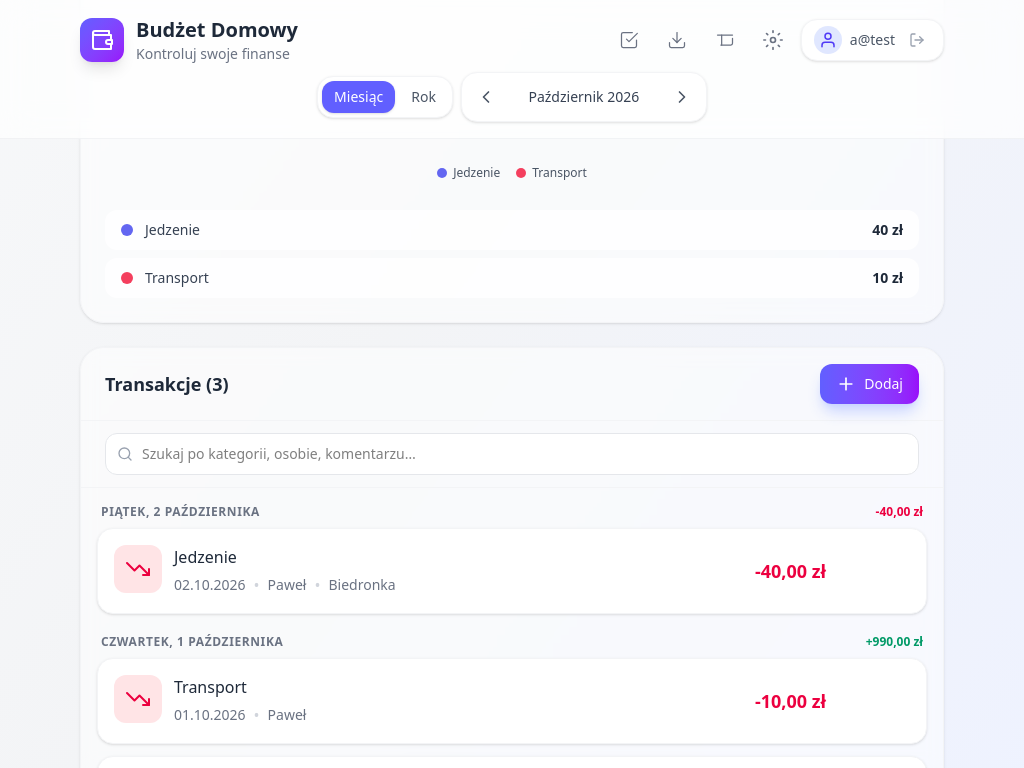
Test case: App — złożenie po podziale › dodanie transakcji: formularz → API → odświeżenie → zamknięcie
The width and height of the screenshot is (1024, 768).
(page scrolled)
Expected: the heading "Transakcje (3)" is shown, [105,370,229,398]
Click the button "Dodaj" at (870, 384), box [820,364,919,404]
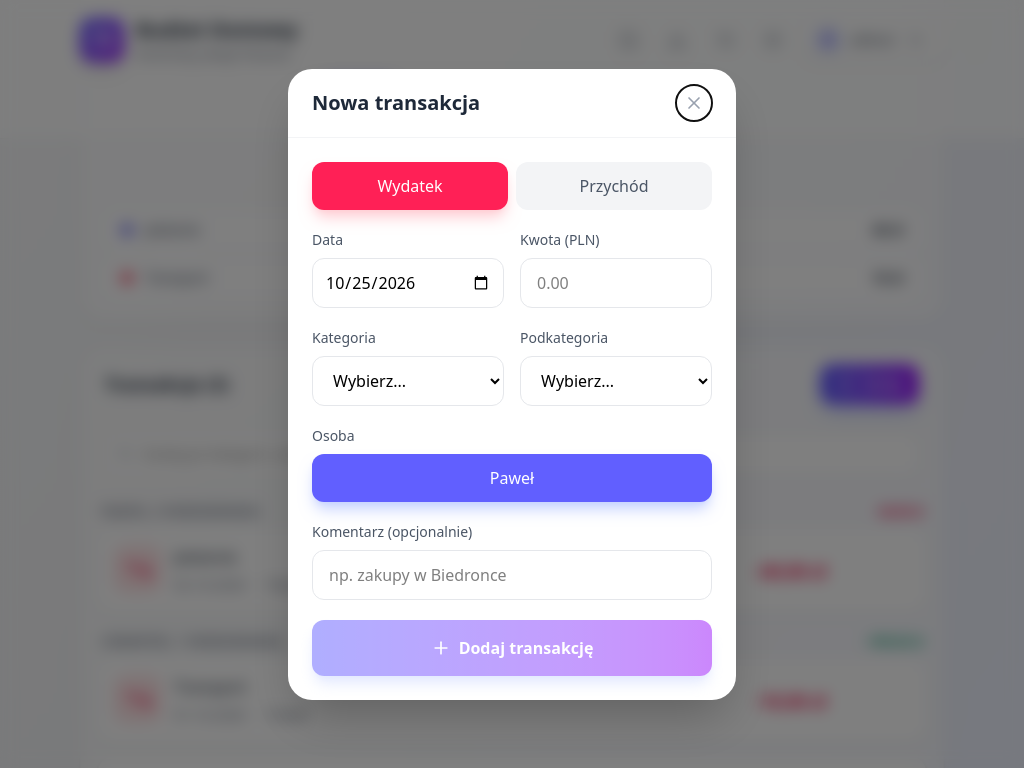
Type "12" into the number field labelled "Kwota (PLN)" at (616, 282), box [520,258,712,308]
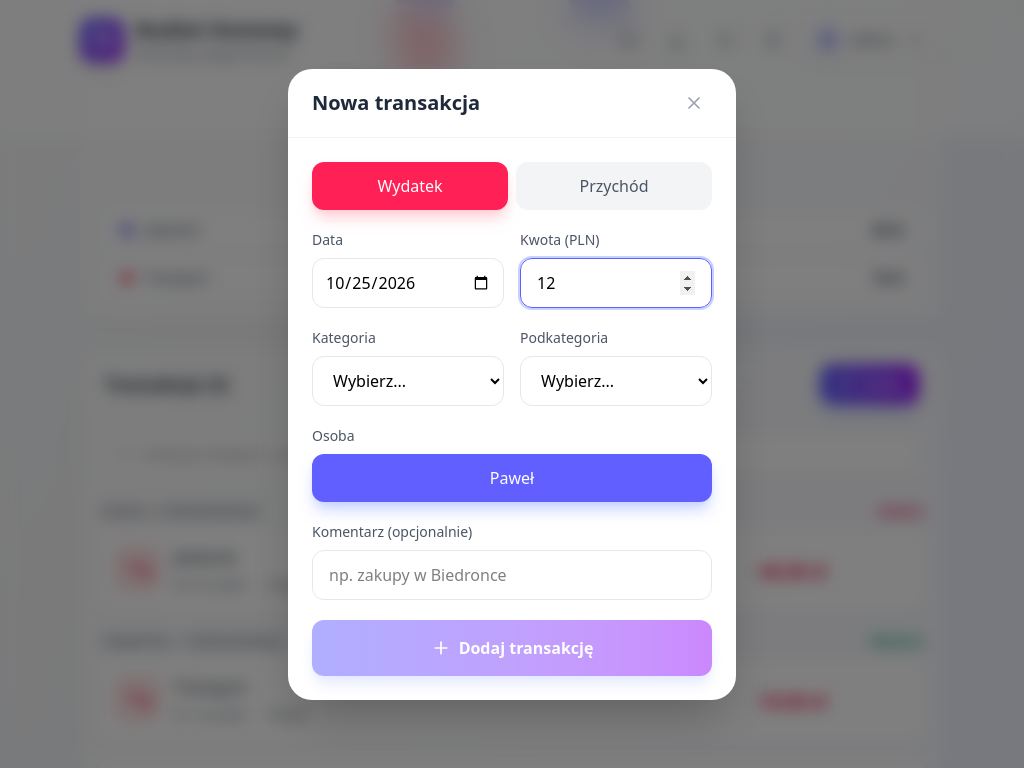
Select "Transport" in the dropdown labelled "Kategoria" at (408, 380), box [312,356,504,406]
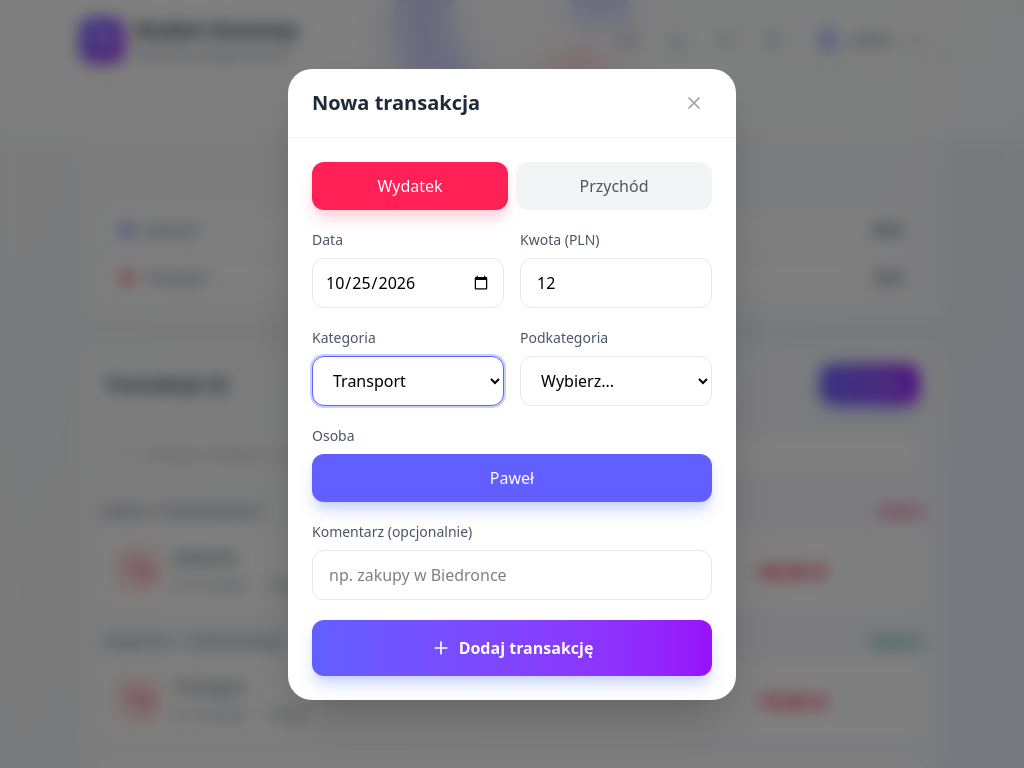
Click the button "Dodaj transakcję" at (512, 648), box [312,620,712,676]
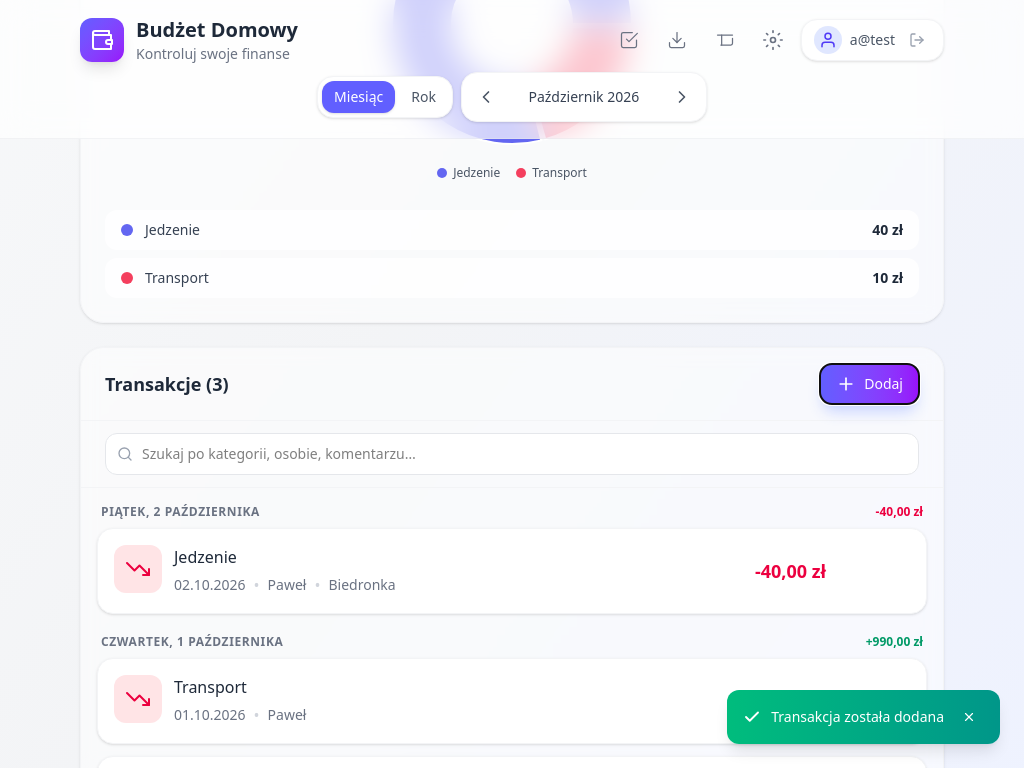
Expected: the dialog is gone
Expected: the text "Transakcja została dodana" is shown, [771,707,944,727]
